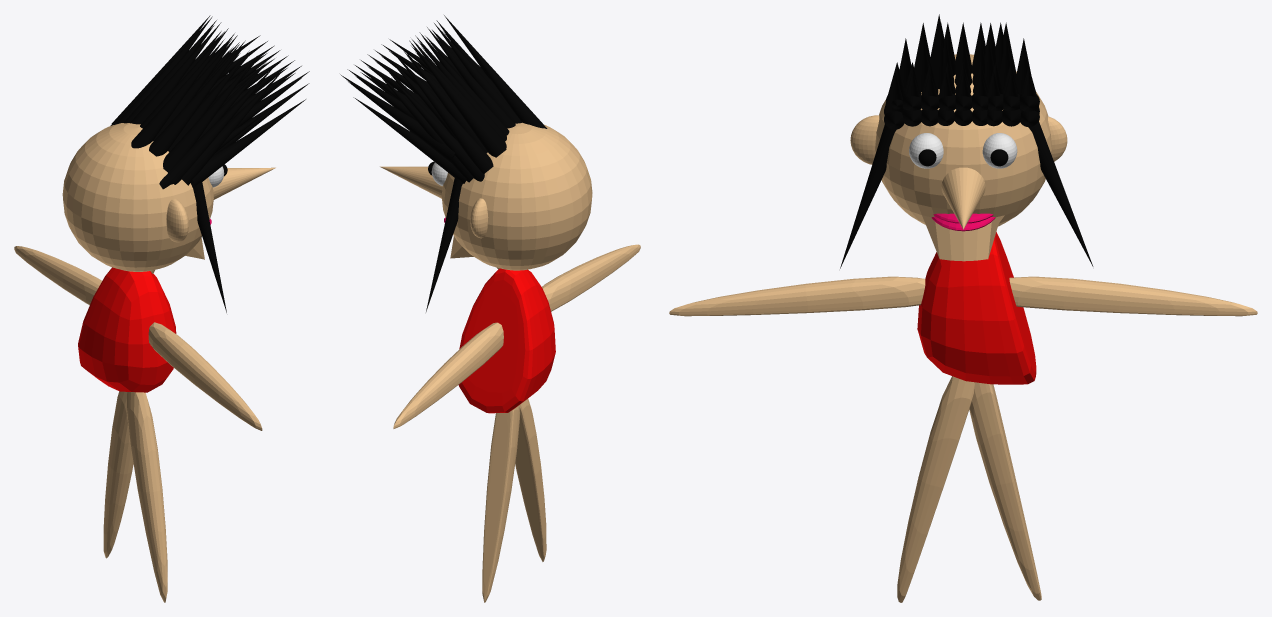
Rendered from player.fbx.
3 views of the same model, side by side, from view 1: azimuth 30°, elevation 25°; view 2: azimuth 150°, elevation 25°; view 3: azimuth 270°, elevation 25° (orthographic). The views are drawn at different scales.
Visible parts, largest first — view 1: 球, Cube, Cube.001, Cube.004, Cube.002, Cube.003, 円錐.020, 円錐.022, 円錐.019, 円錐.048, 円錐.052, 円錐.045 (+14 smaller); view 2: 球, Cube, Cube.002, Cube.003, Cube.001, Cube.004, 円錐.026, 円錐.029, 円錐.019, 円錐.039, 円錐.056, 円錐.034 (+10 smaller); view 3: 球, Cube, Cube.004, Cube.003, Cube.001, Cube.002, 円錐, 円錐.056, 円錐.055, 球.007, 球.002, 球.003.
Boxes of the visible parts, x1=… form: 球: x1=62, y1=123, x2=213, y2=273; Cube: x1=78, y1=267, x2=176, y2=392; Cube.001: x1=127, y1=392, x2=167, y2=602; Cube.004: x1=148, y1=322, x2=262, y2=430; Cube.002: x1=103, y1=391, x2=133, y2=558; Cube.003: x1=14, y1=246, x2=101, y2=305; 円錐.020: x1=149, y1=40, x2=245, y2=156; 円錐.022: x1=163, y1=56, x2=256, y2=172; 円錐.019: x1=131, y1=39, x2=224, y2=148; 円錐.048: x1=168, y1=73, x2=268, y2=184; 円錐.052: x1=192, y1=99, x2=305, y2=185; 円錐.045: x1=181, y1=72, x2=281, y2=185; 球: x1=441, y1=122, x2=592, y2=270; Cube: x1=458, y1=268, x2=555, y2=413; Cube.002: x1=482, y1=405, x2=519, y2=602; Cube.003: x1=393, y1=322, x2=503, y2=428; Cube.001: x1=515, y1=398, x2=546, y2=561; Cube.004: x1=542, y1=244, x2=640, y2=311; 円錐.026: x1=398, y1=57, x2=493, y2=174; 円錐.029: x1=409, y1=40, x2=506, y2=157; 円錐.019: x1=451, y1=23, x2=547, y2=128; 円錐.039: x1=340, y1=74, x2=455, y2=162; 円錐.056: x1=426, y1=178, x2=462, y2=311; 円錐.034: x1=391, y1=78, x2=484, y2=181; 球: x1=875, y1=54, x2=1052, y2=261; Cube: x1=917, y1=232, x2=1036, y2=384; Cube.004: x1=669, y1=276, x2=925, y2=316; Cube.003: x1=1009, y1=276, x2=1257, y2=316; Cube.001: x1=897, y1=376, x2=974, y2=602; Cube.002: x1=969, y1=382, x2=1041, y2=600; 円錐: x1=941, y1=167, x2=985, y2=229; 円錐.056: x1=1028, y1=121, x2=1093, y2=266; 円錐.055: x1=840, y1=124, x2=896, y2=268; 球.007: x1=850, y1=115, x2=879, y2=164; 球.002: x1=982, y1=133, x2=1017, y2=168; 球.003: x1=909, y1=133, x2=943, y2=168.
Bounding box in the file's own units: 330 × 778 × 655.
